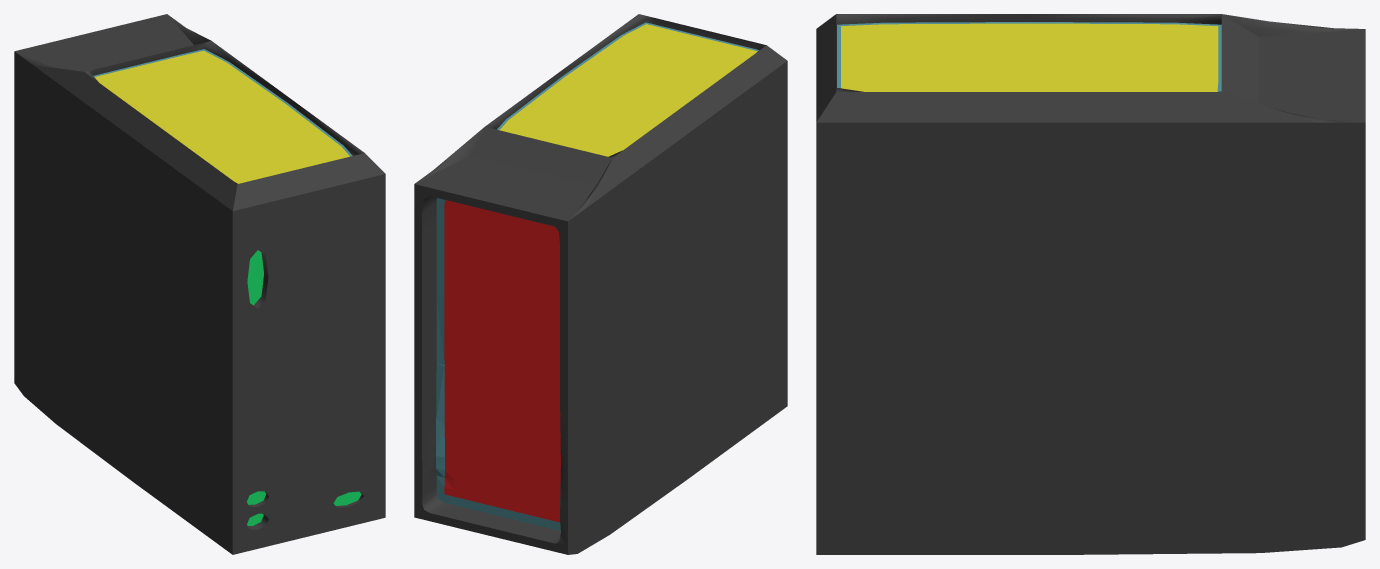
Rendered from ComputerTower_high.FBX.
3 views of the same model, side by side, from view 1: azimuth 30°, elevation 25°; view 2: azimuth 150°, elevation 25°; view 3: azimuth 270°, elevation 25° (orthographic). The views are drawn at different scales.
Visible parts, largest first — view 1: Computer_high; view 2: Computer_high; view 3: Computer_high.
Boxes of the visible parts, x1=… form: Computer_high: x1=14, y1=14, x2=385, y2=554; Computer_high: x1=414, y1=14, x2=787, y2=554; Computer_high: x1=816, y1=14, x2=1365, y2=554.
Bounding box in the file's own units: 19.53 × 44.15 × 48.34.
